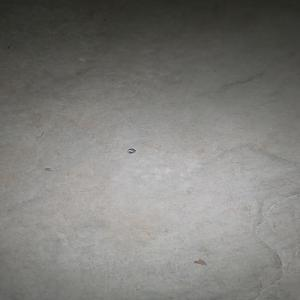Nut: (126, 148, 136, 154)
